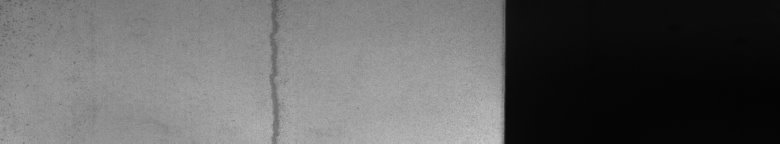hd: (260, 4, 284, 136)
